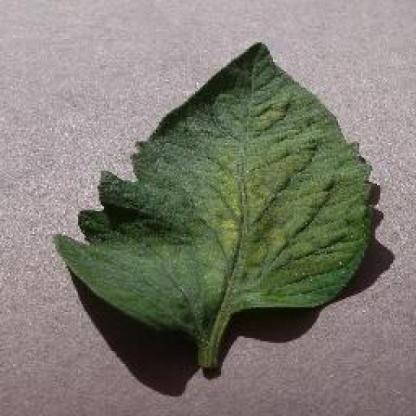Tomato_Spider_Mites: (53, 40, 372, 328)
